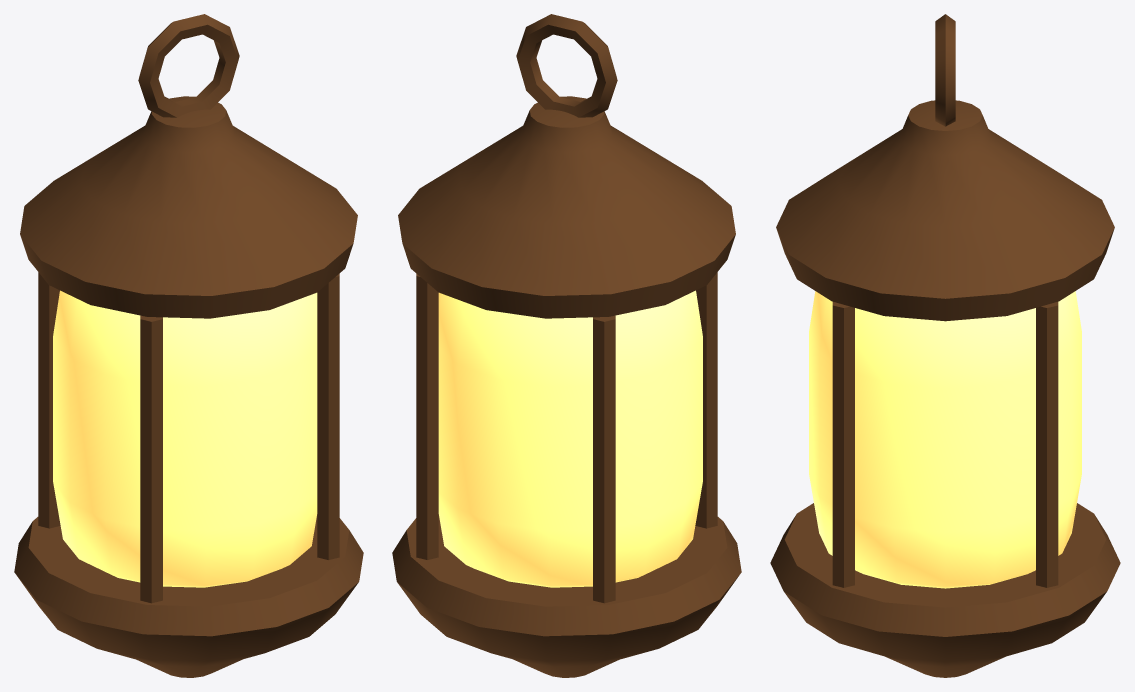
The model's file is SM_Igloo_Lantern.glb.
The picture shows the model from 3 angles, left to right: view 1: azimuth 30°, elevation 25°; view 2: azimuth 150°, elevation 25°; view 3: azimuth 270°, elevation 25°; orthographic projection.
Visible parts, largest first — view 1: SM_Igloo_Lantern, glow; view 2: SM_Igloo_Lantern, glow; view 3: SM_Igloo_Lantern, glow.
Boxes of the visible parts, bbox=[...] form: SM_Igloo_Lantern: bbox=[14, 14, 363, 677]; glow: bbox=[53, 290, 317, 587]; SM_Igloo_Lantern: bbox=[392, 14, 741, 677]; glow: bbox=[438, 290, 702, 587]; SM_Igloo_Lantern: bbox=[770, 14, 1120, 677]; glow: bbox=[809, 291, 1081, 588].
Size of the model in its own units: 0.244 by 0.498 by 0.244.
